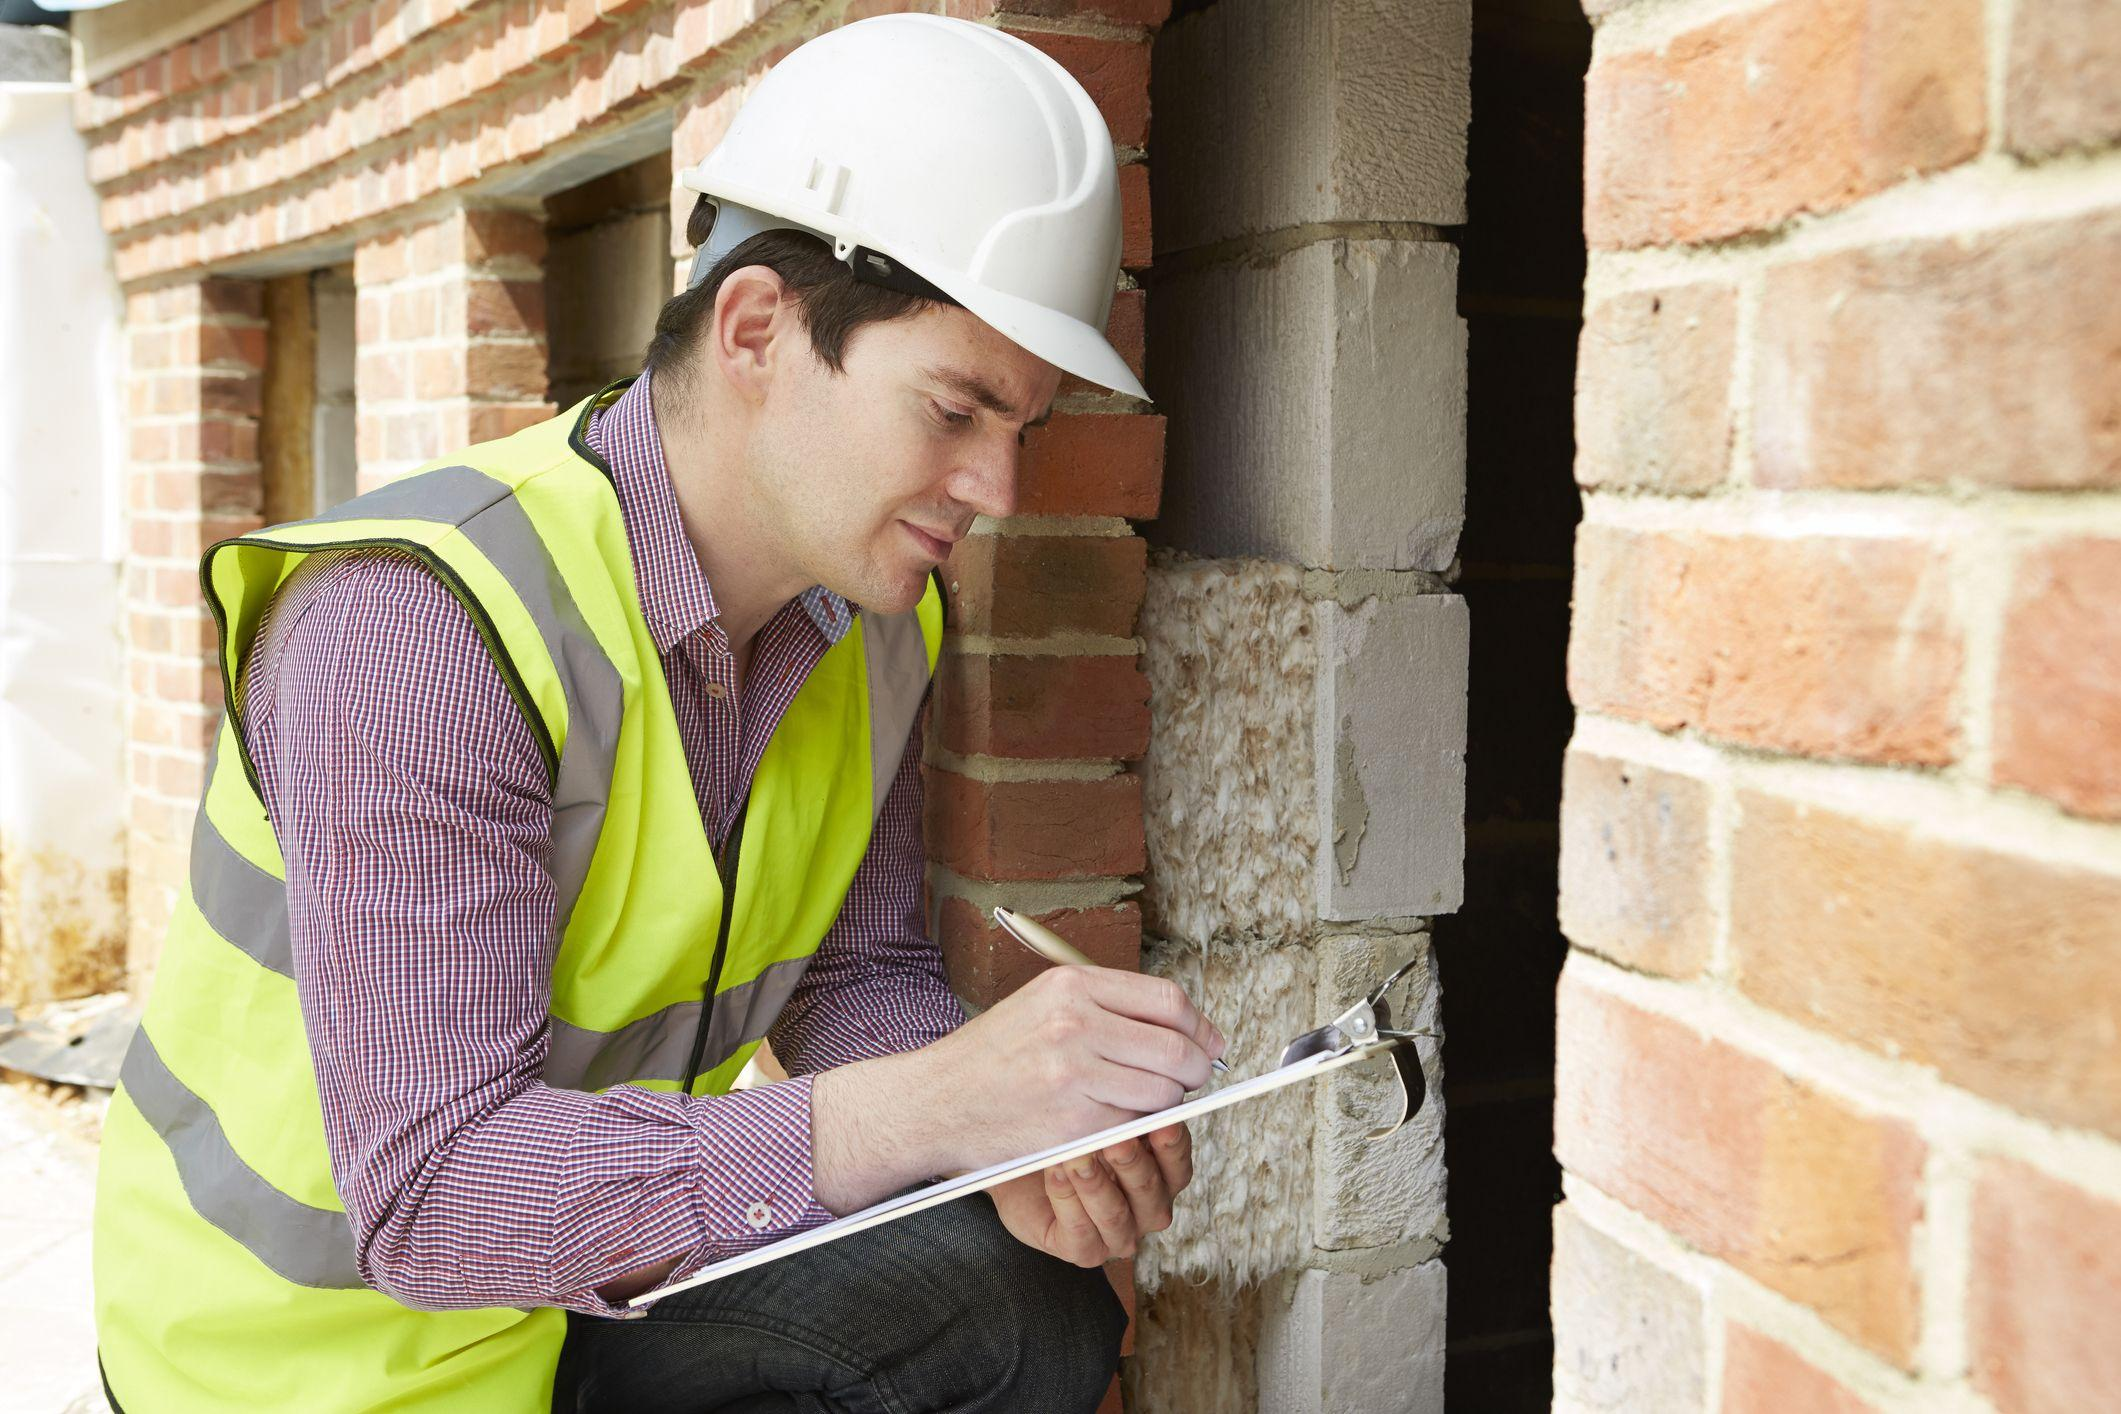helmet: (683, 17, 1166, 413)
